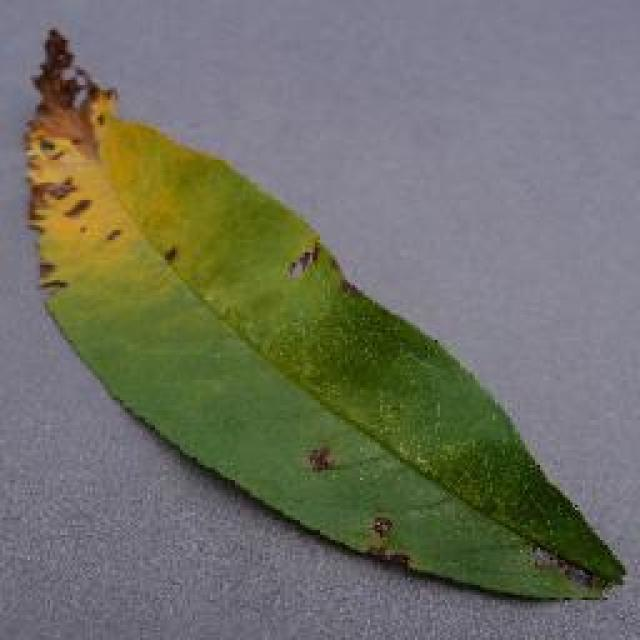Peach_Bacterial_Spot: (17, 39, 210, 284)
